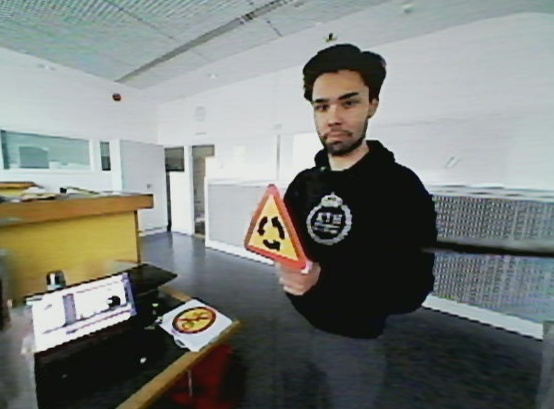roundabout_warning: (239, 181, 309, 278)
